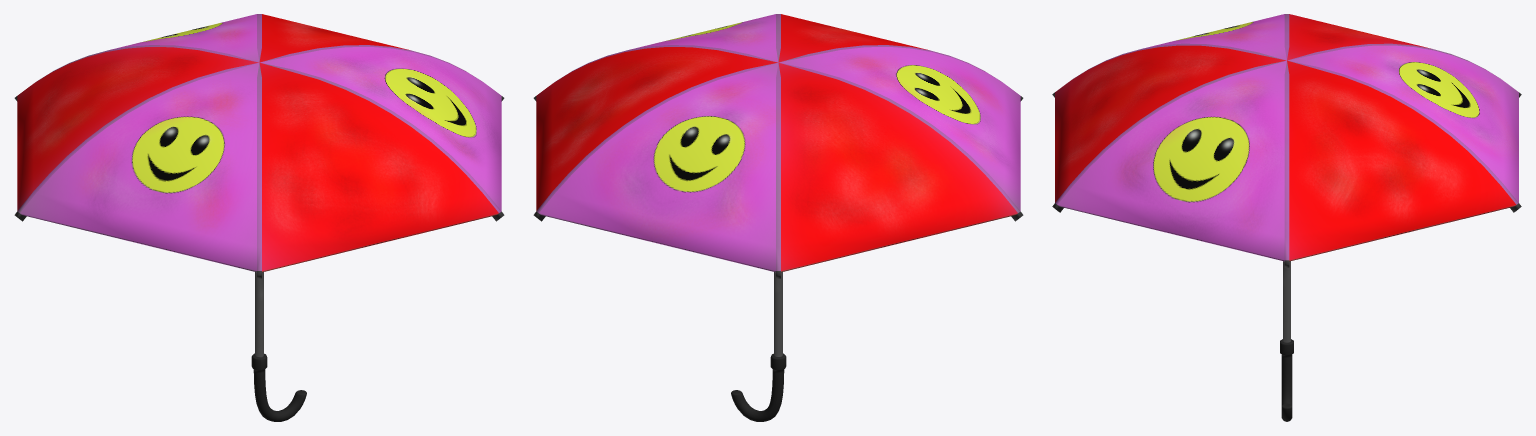
The model's file is Umbrella_Model.fbx.
3 views of the same model, side by side, from view 1: azimuth 30°, elevation 25°; view 2: azimuth 150°, elevation 25°; view 3: azimuth 270°, elevation 25° (orthographic). The views are drawn at different scales.
Visible parts, largest first — view 1: Fold, Handle; view 2: Fold, Handle; view 3: Fold, Handle.
Part boxes in pixels (box(x1,y1,x2,y2)): Fold: box(14, 14, 504, 278); Handle: box(251, 272, 306, 421); Fold: box(533, 14, 1023, 278); Handle: box(731, 272, 786, 421); Fold: box(1052, 14, 1521, 267); Handle: box(1280, 261, 1293, 421).
Size of the model in its own units: 16.39 by 11.69 by 14.27.
